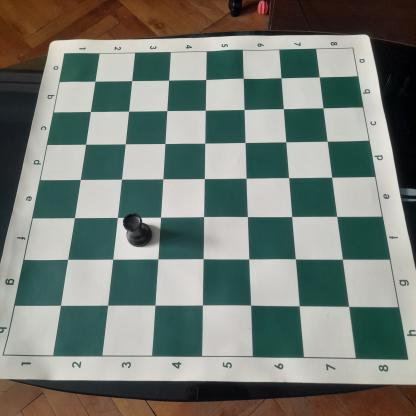black-rook: (120, 212, 158, 248)
